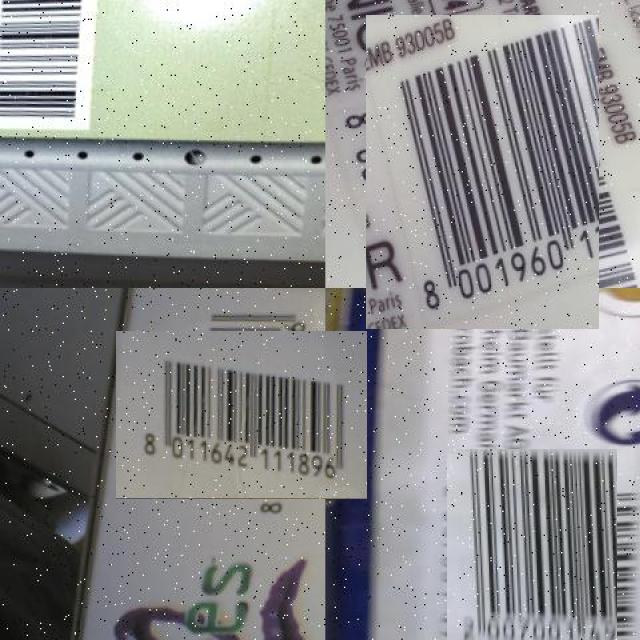Barcode: (346, 34, 619, 309), (136, 310, 346, 520), (436, 459, 628, 640), (0, 0, 108, 136)
